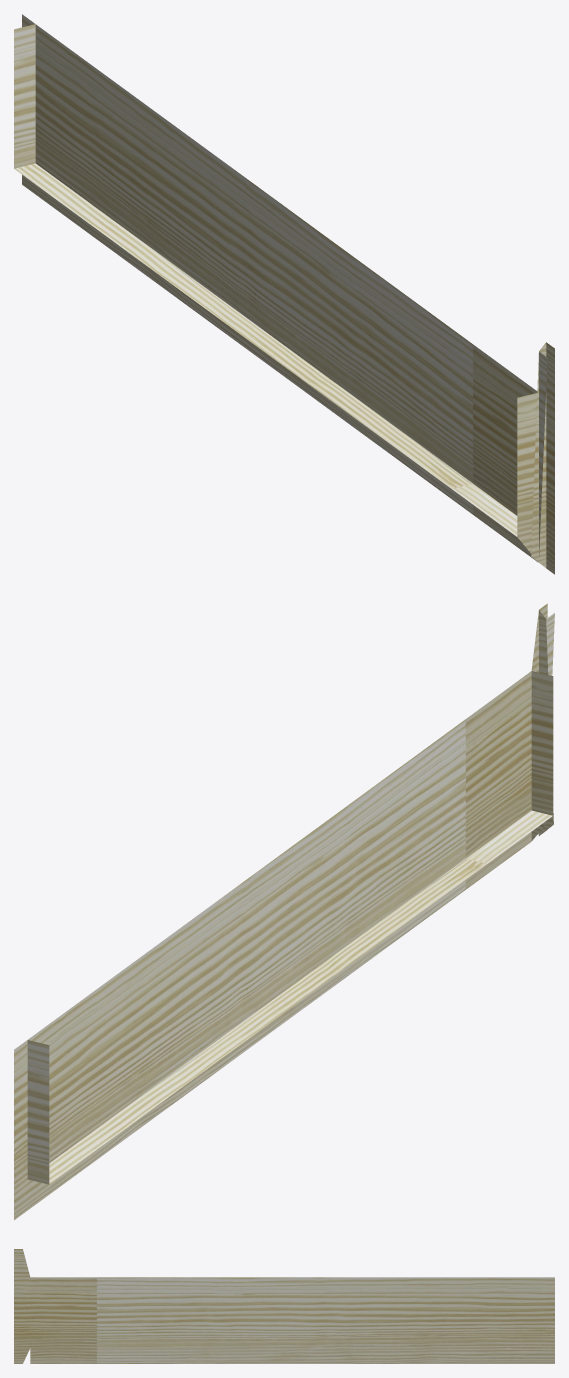
The picture shows the model from 3 angles, top to bottom: view 1: azimuth 30°, elevation 25°; view 2: azimuth 150°, elevation 25°; view 3: azimuth 270°, elevation 25°; orthographic projection. The views are drawn at different scales.
Bounding box in the file's own units: 0.0112 × 0.1117 × 0.4768.
